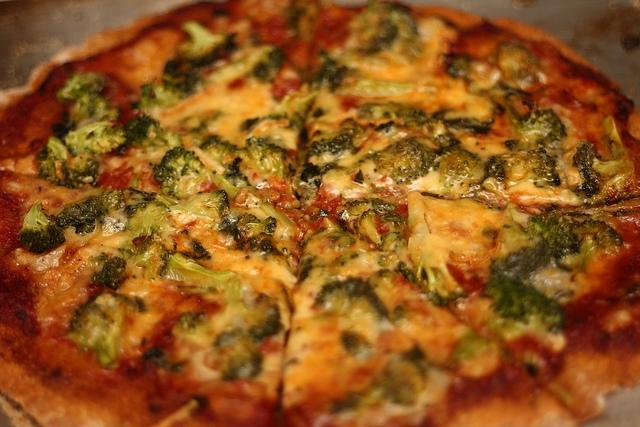broccoli: (163, 254, 281, 348), (62, 293, 144, 367), (482, 271, 566, 335), (130, 58, 206, 121), (394, 249, 468, 307), (503, 91, 570, 152), (357, 5, 424, 64), (313, 274, 390, 324), (571, 140, 635, 198), (351, 357, 425, 407), (37, 136, 100, 189), (488, 239, 564, 282), (328, 66, 436, 96), (54, 188, 124, 233), (374, 137, 436, 185), (154, 148, 211, 200), (207, 44, 285, 82), (57, 71, 110, 126), (19, 201, 66, 254), (178, 20, 230, 66), (62, 119, 126, 155), (235, 136, 288, 178), (490, 40, 540, 84), (124, 113, 184, 149), (432, 148, 479, 188), (306, 132, 358, 168), (122, 201, 172, 238), (168, 190, 232, 218), (135, 235, 173, 281), (542, 215, 584, 255), (450, 331, 500, 360), (219, 347, 261, 381), (527, 148, 561, 188), (90, 256, 128, 291), (144, 344, 182, 372), (354, 208, 382, 244), (439, 117, 494, 135), (200, 136, 238, 162), (292, 163, 322, 194), (356, 101, 402, 120), (238, 216, 278, 237), (483, 156, 508, 182), (172, 313, 200, 336), (296, 255, 318, 283), (378, 212, 408, 232), (446, 56, 469, 78)
